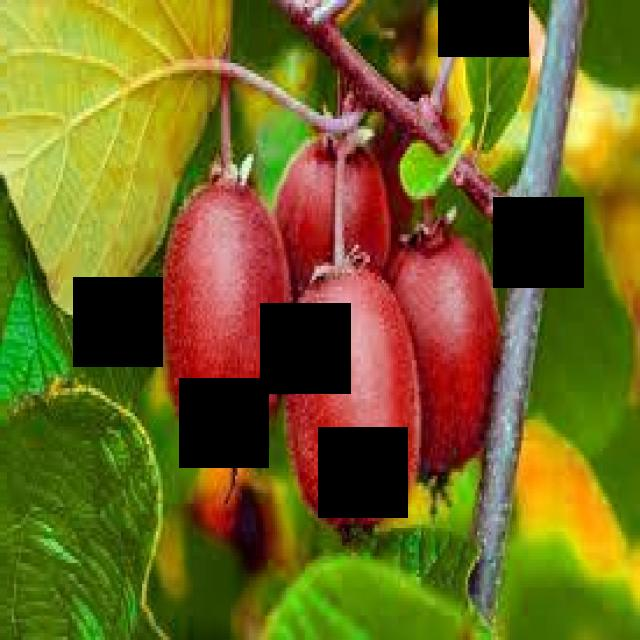kiwi: (279, 260, 425, 547), (148, 169, 294, 453), (383, 228, 509, 487), (255, 127, 397, 309)
